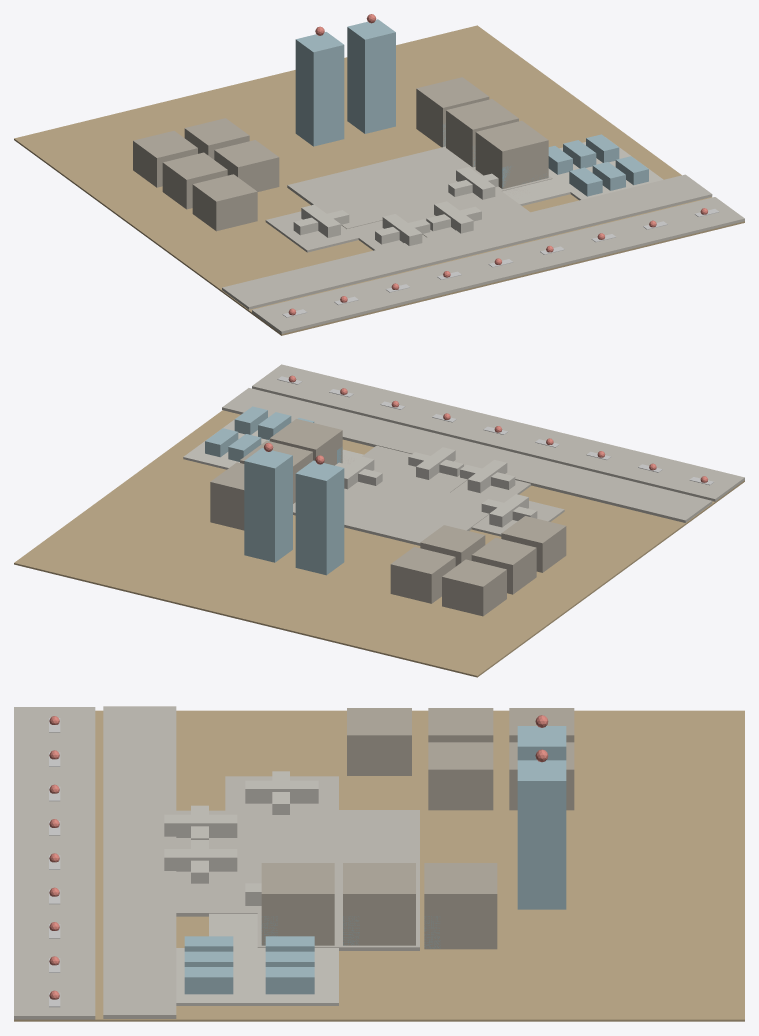
Rendered from stage_22.glb.
The picture shows the model from 3 angles, top to bottom: view 1: azimuth 30°, elevation 25°; view 2: azimuth 150°, elevation 25°; view 3: azimuth 270°, elevation 25°; orthographic projection. The views are drawn at different scales.
Parts seen in each view (by area): view 1: geometry_0; view 2: geometry_0; view 3: geometry_0.
Boxes of the visible parts, bbox=[...] form: geometry_0: bbox=[14, 14, 744, 335]; geometry_0: bbox=[14, 364, 744, 677]; geometry_0: bbox=[14, 706, 744, 1021].
Size of the model in its own units: 9 by 2.06 by 9.
